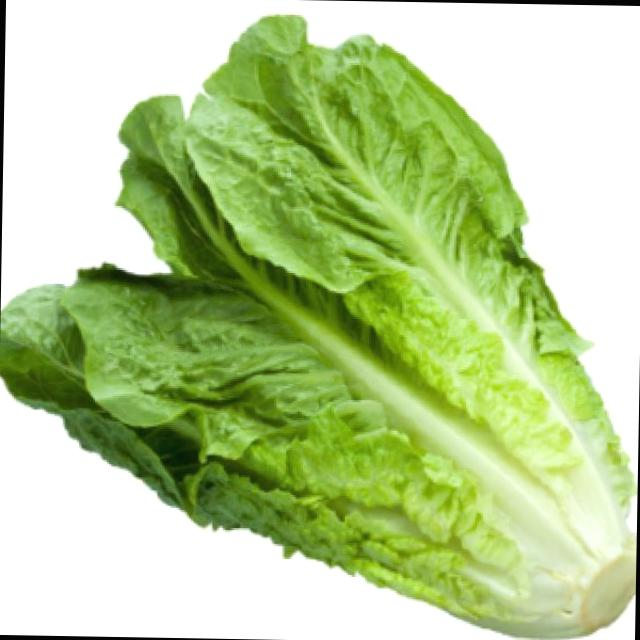Lettuce-Ready-to-Harvest: (0, 17, 636, 636)
